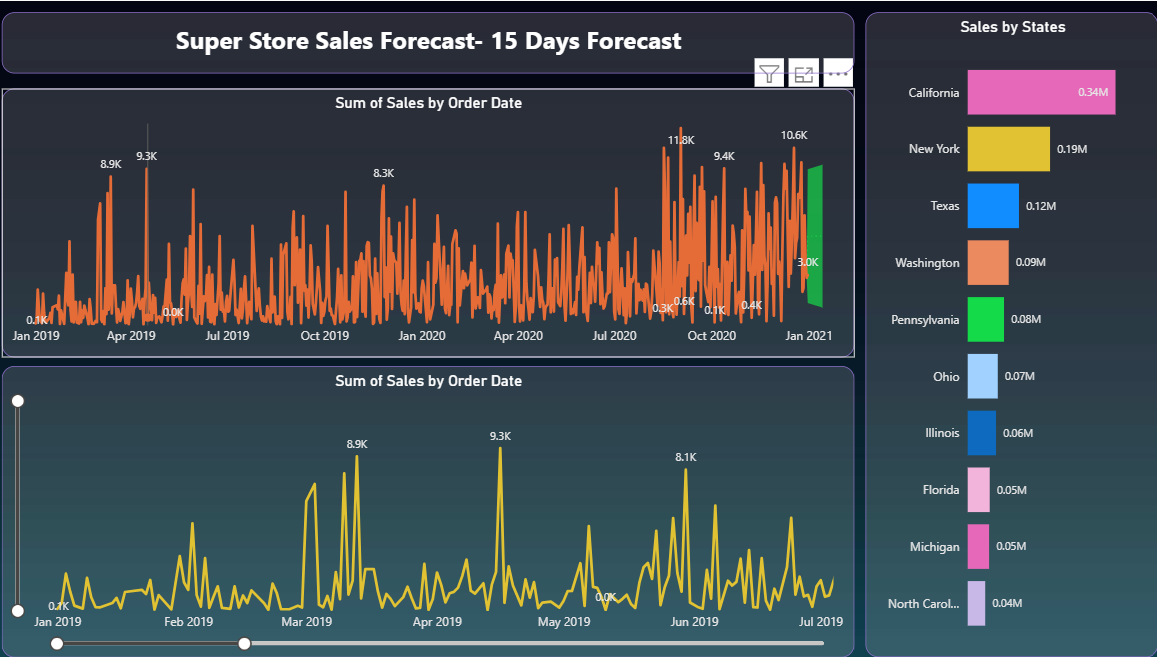

The page's visual inventory and layout, read from the dashboard file:
{"tool":"powerbi","page":{"name":"Page 2","canvas":[1280,720],"ordinal":1},"visuals":[{"type":"lineChart","fields":{"Y":["Sum(SuperStore_Sales_Dataset.Sales)"],"Category":["SuperStore_Sales_Dataset.Order Date"]},"box":[9.6,96.1,935.9,295],"z":0},{"type":"lineChart","fields":{"Y":["Sum(SuperStore_Sales_Dataset.Sales)"],"Category":["SuperStore_Sales_Dataset.Order Date"]},"box":[9.6,400.7,935.9,319.7],"z":1000},{"type":"clusteredBarChart","title":"Sales by States","fields":{"Category":["SuperStore_Sales_Dataset.State"],"Y":["Sum(SuperStore_Sales_Dataset.Sales)"]},"box":[957.8,12.3,322.5,708.1],"z":2000},{"type":"textbox","box":[9.6,12.3,935.9,67.2],"z":3000}]}

Visuals, with their boxes in screenshot pixels (x1, y1, x2, y2), scaled from the page's 1280x720 canvas onto the 1157x657 screenshot:
lineChart - Sum(SuperStore_Sales_Dataset.Sales) x SuperStore_Sales_Dataset.Order Date: 9, 88, 855, 357
lineChart - Sum(SuperStore_Sales_Dataset.Sales) x SuperStore_Sales_Dataset.Order Date: 9, 366, 855, 656
"Sales by States" clusteredBarChart: 866, 11, 1156, 656
textbox: 9, 11, 855, 73
